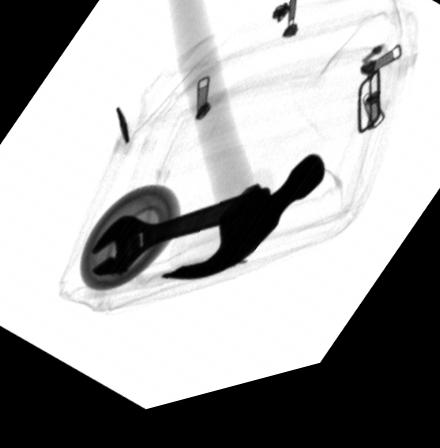Hammer: (158, 0, 325, 291)
Wrench: (90, 197, 271, 282)
